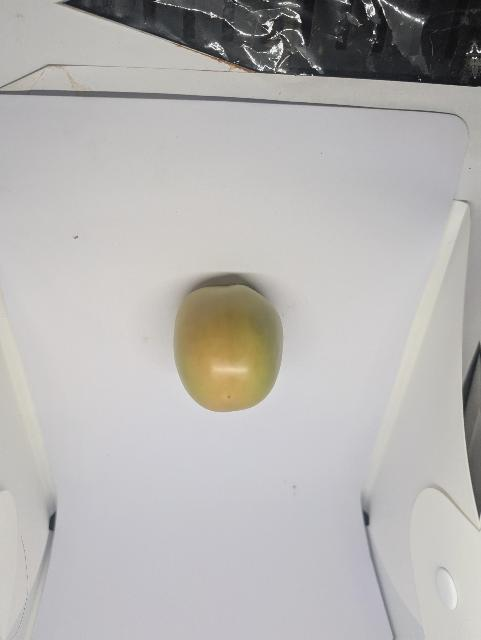breaker: (170, 282, 288, 416)
